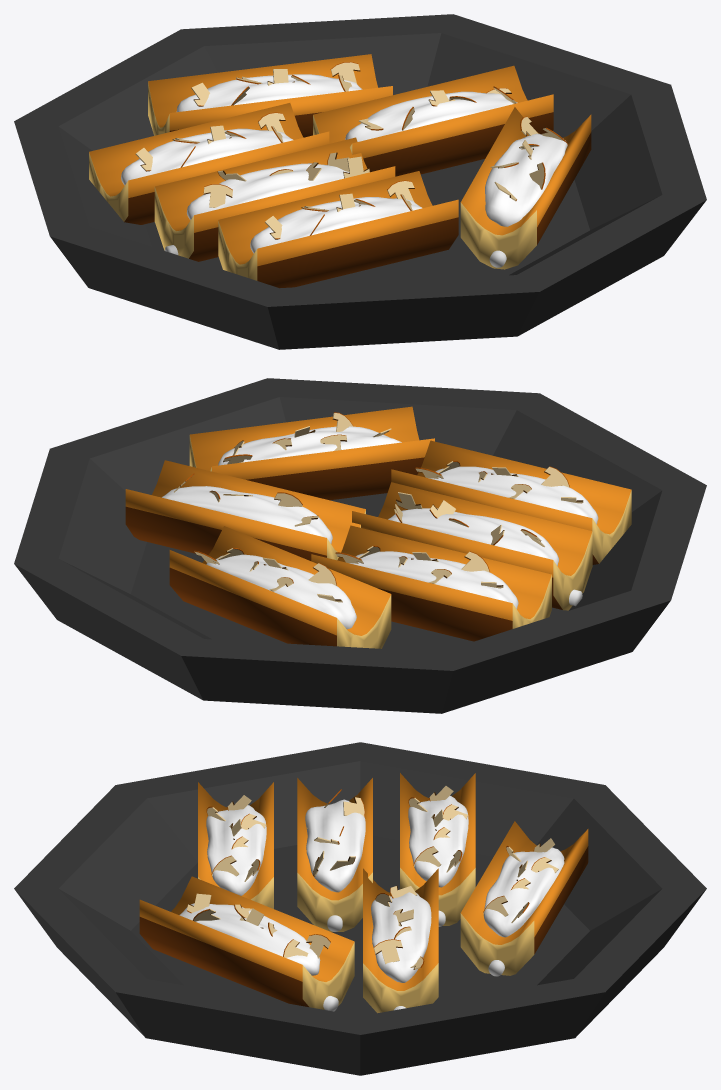
The model's file is mushroom on a log.fbx.
3 views of the same model, one above another, from view 1: azimuth 30°, elevation 25°; view 2: azimuth 150°, elevation 25°; view 3: azimuth 270°, elevation 25° (orthographic). The views are drawn at different scales.
Visible parts, largest first — view 1: plate; view 2: plate; view 3: plate.
Boxes of the visible parts, <box> form: plate: <box>14,14,706,349</box>; plate: <box>14,378,706,713</box>; plate: <box>14,742,706,1075</box>.
Size of the model in its own units: 302 by 51.43 by 302.
